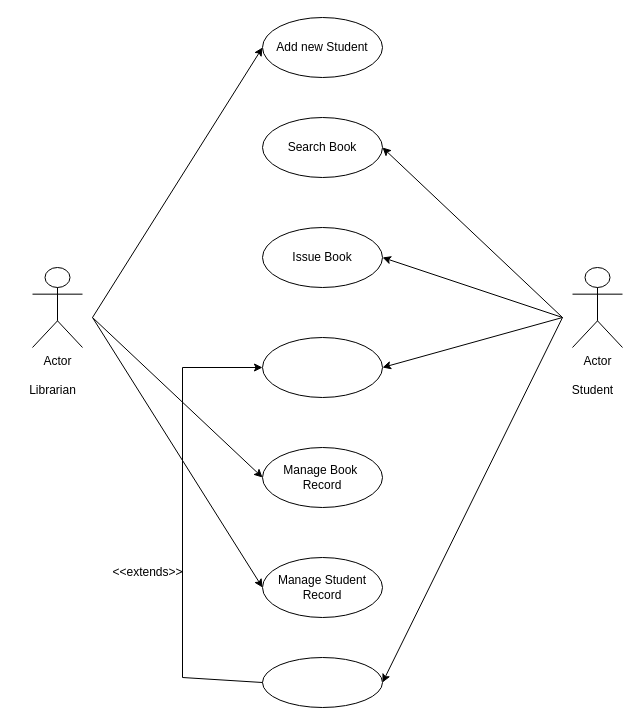
The diagram is 640 pixels wide and 725 high, and some of its shapes have lost their labels. Here are the shapes that lost their labels. From the top down, the box of each, then its label:
(262, 336, 382, 398): Return Book
(262, 656, 382, 708): Pay Fine
